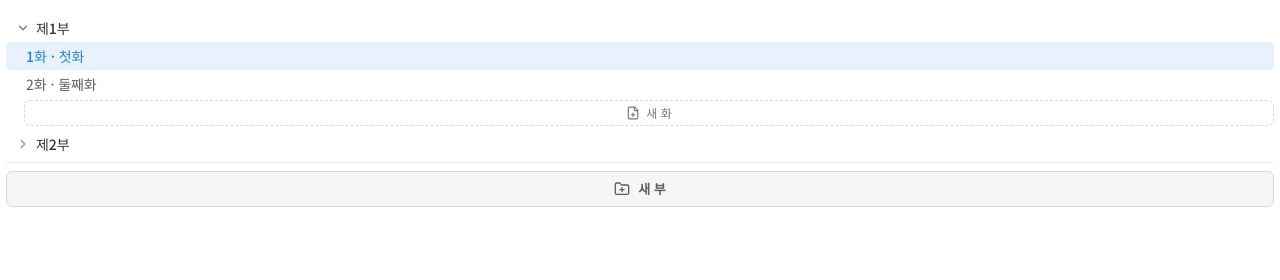
it: WorkTree 새 부/새 화 추가 진행 상태 › 새 화 추가 중에는 그 부의 버튼만 비활성화되고 다른 부의 버튼은 활성 상태로 남는다
This screenshot has width=1280, height=280.
# 제2부를 펼쳐 두 부의 '새 화' 버튼을 모두 노출시킨다
Click the button "제2부".
click(53, 144)  # box [6,130,1246,158]
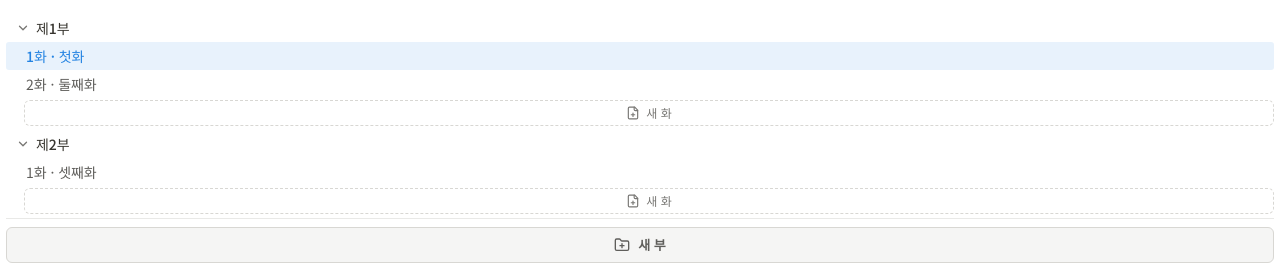
Click the button "새 화" below "둘째화".
click(649, 113)  # box [24,100,1274,126]
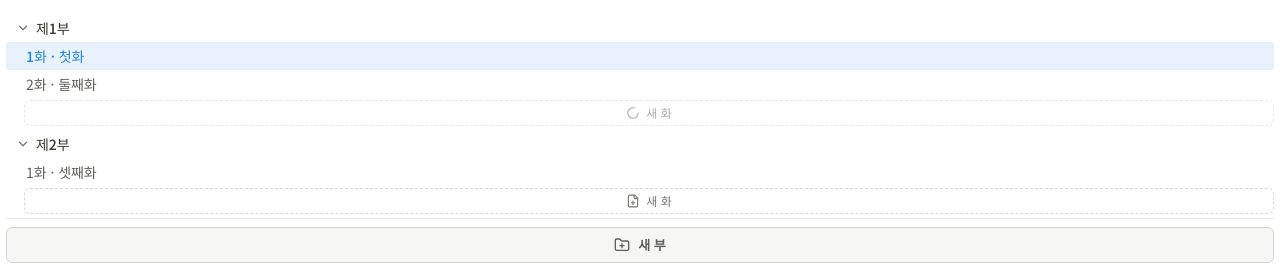
Check: the button "새 화" below "셋째화" is enabled, box [24,188,1274,214]
Check: the button "새 화" below "둘째화" is disabled
Check: the icon with class "animate-spin" is shown, box [626,106,640,120]
Click the button "새 화" below "둘째화".
click(649, 113)  # box [24,100,1274,126]
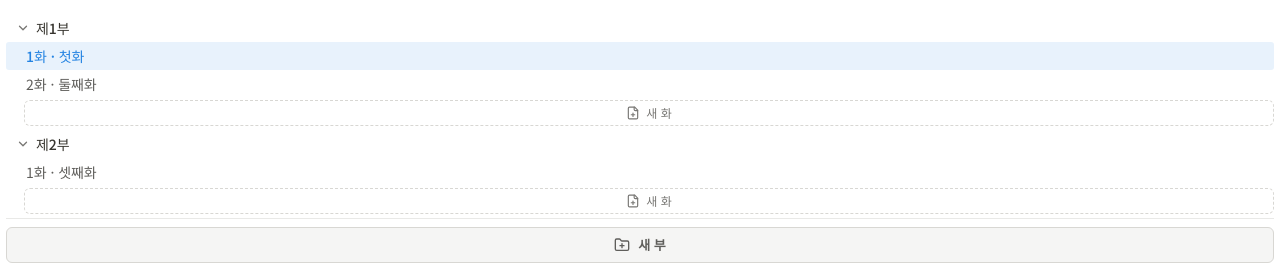
Check: the button "새 화" below "둘째화" is enabled, box [24,100,1274,126]
